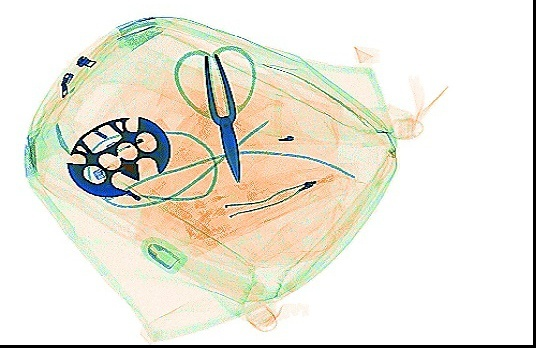lighter: (100, 116, 173, 156), (91, 142, 153, 181)
scissors: (173, 44, 256, 184)
